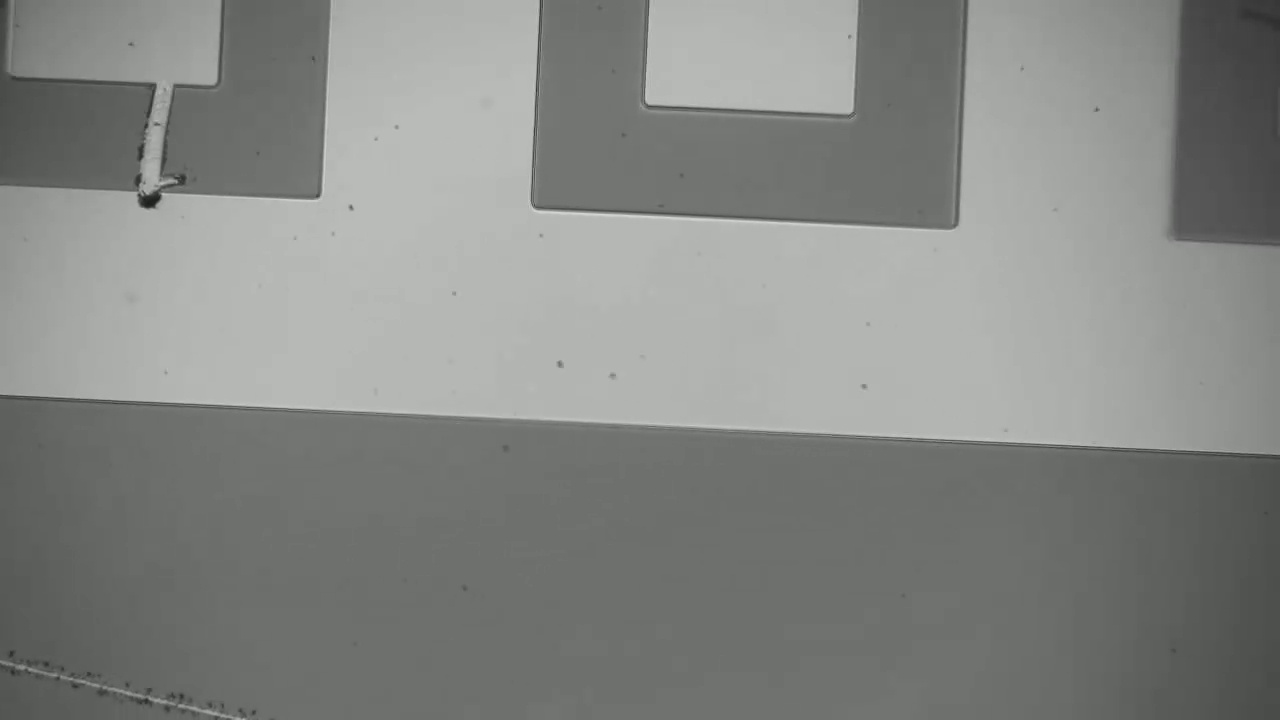Short_circuit: (106, 56, 194, 227)
scratch: (0, 612, 275, 716)
